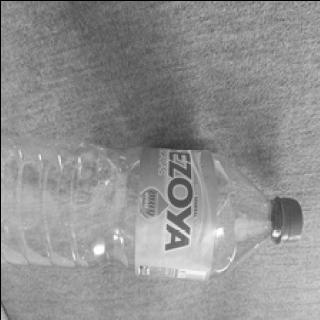plastic_bottles: (1, 128, 312, 282)
